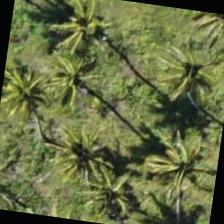Kelapa_Sawit: (25, 34, 127, 136), (21, 101, 123, 203), (123, 114, 223, 216), (128, 33, 223, 136), (30, 0, 132, 90), (59, 147, 159, 223), (0, 41, 69, 139)
